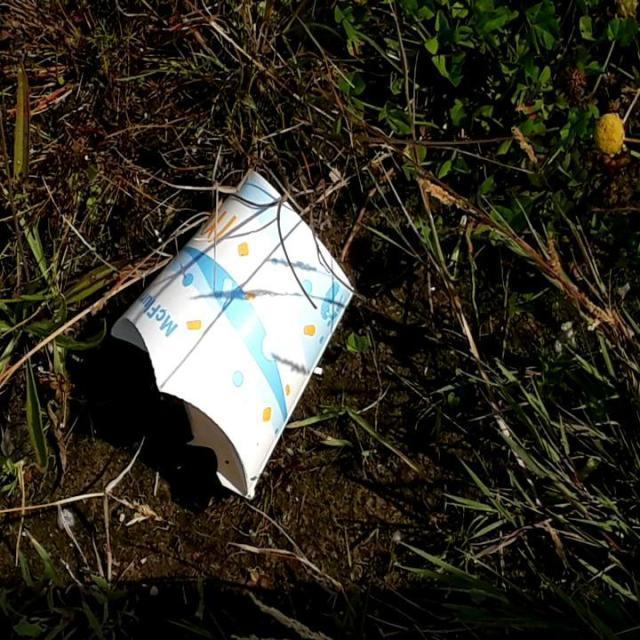Paper: (107, 168, 357, 502)
